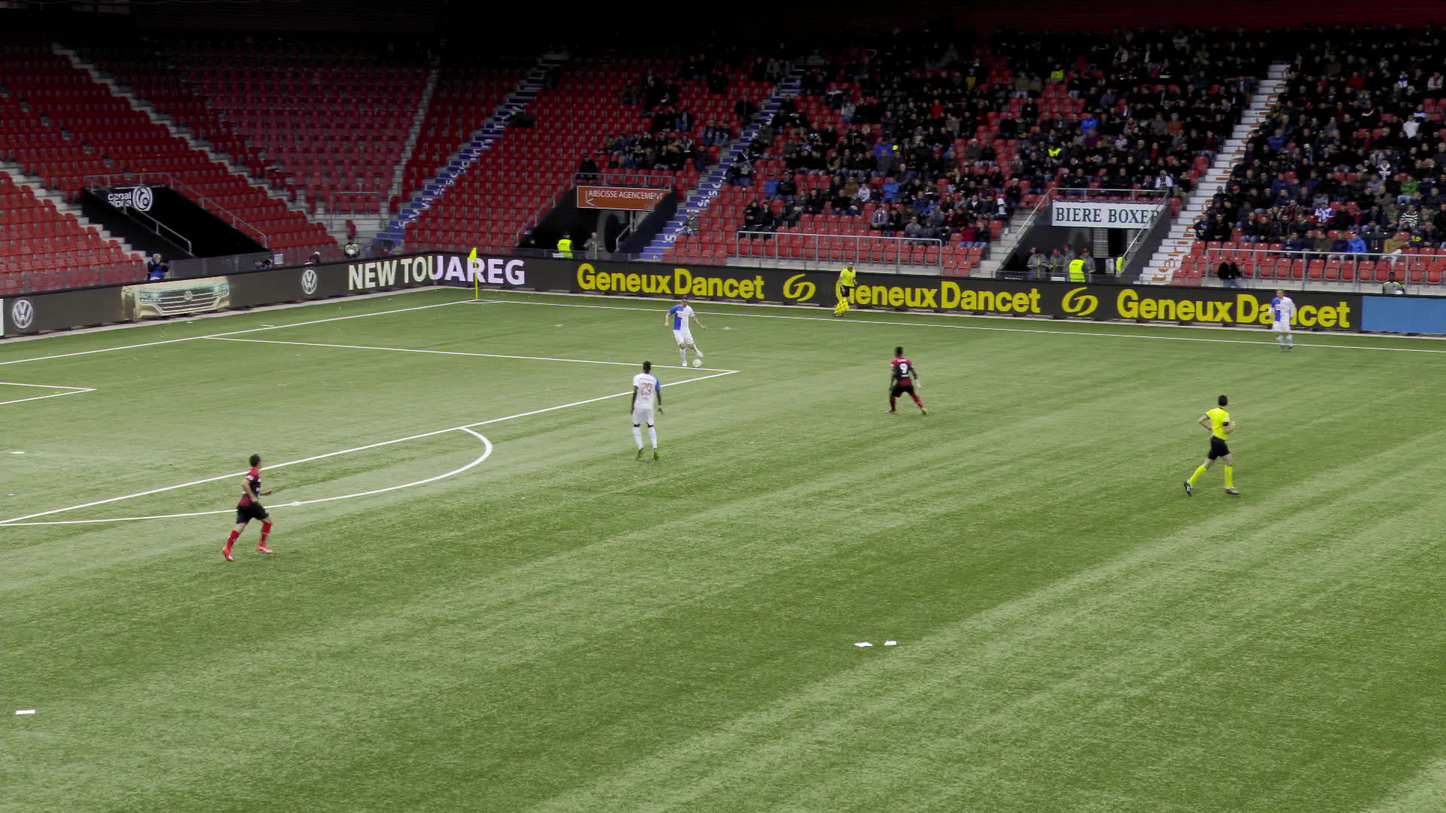ball: (693, 359, 701, 367)
player: (218, 454, 273, 556), (634, 364, 672, 462), (668, 295, 705, 364), (893, 346, 927, 416), (1275, 290, 1302, 353)
referee: (1188, 397, 1243, 498), (834, 260, 859, 317)
